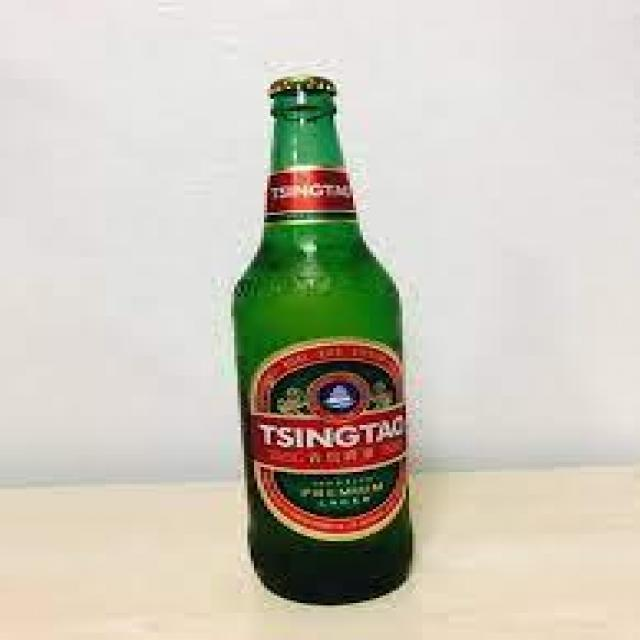beer-bottle: (211, 70, 426, 610)
